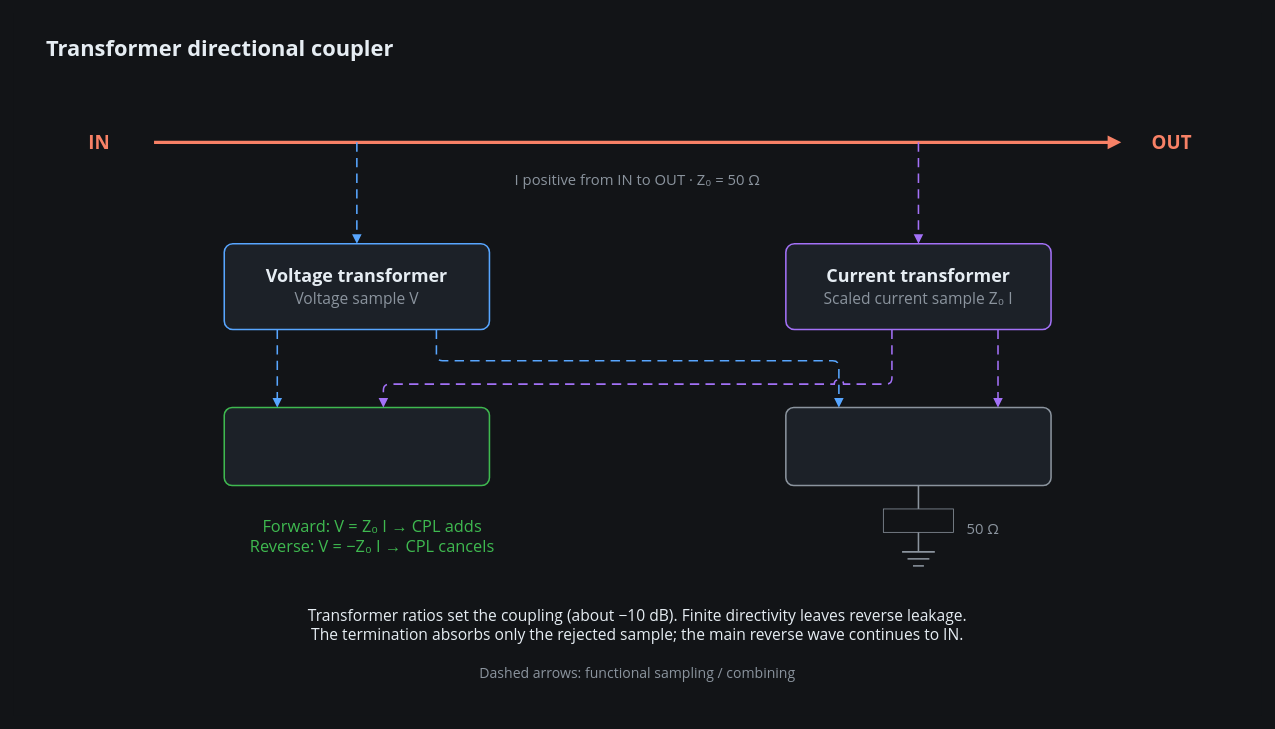
Some shapes in this 1275 by 729 pixel diagram are drawn without their labels. The shapes that lost their labels are listed below. From the top down, each one's centre as x and y in pixels, then its label:
point 356,446: CPL → detector V + Z₀ I
point 918,446: Internal termination V − Z₀ I
